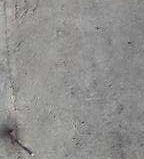Exposed reinforcement: (14, 139, 33, 154)
